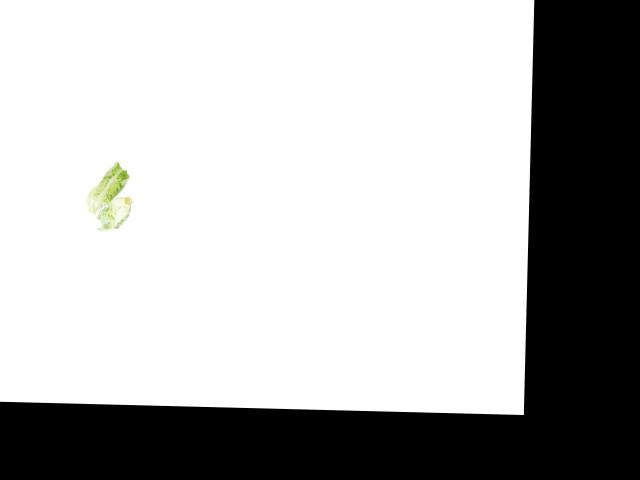lettuce: (95, 193, 137, 233)
